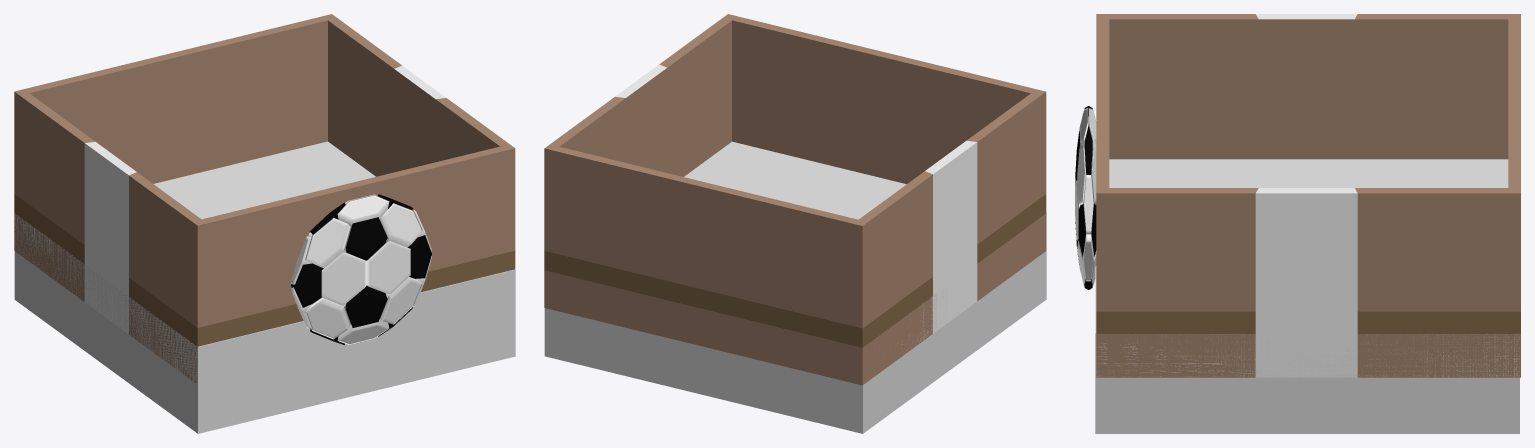
File: SoccerBallBox.gltf
3 views of the same model, side by side, from view 1: azimuth 30°, elevation 25°; view 2: azimuth 150°, elevation 25°; view 3: azimuth 270°, elevation 25° (orthographic). The views are drawn at different scales.
Parts seen in each view (by area): view 1: Cube.003, COL, Solid.001; view 2: Cube.003, COL; view 3: Cube.003, COL, Solid.001.
Boxes of the visible parts, x1=… form: Cube.003: x1=14, y1=14, x2=515, y2=383; COL: x1=14, y1=141, x2=515, y2=433; Solid.001: x1=291, y1=194, x2=431, y2=344; Cube.003: x1=544, y1=14, x2=1046, y2=385; COL: x1=544, y1=141, x2=1046, y2=433; Cube.003: x1=1096, y1=14, x2=1520, y2=377; COL: x1=1095, y1=159, x2=1519, y2=433; Solid.001: x1=1075, y1=106, x2=1096, y2=289.
Bounding box in the file's own units: 2 × 1.25 × 2.1.
